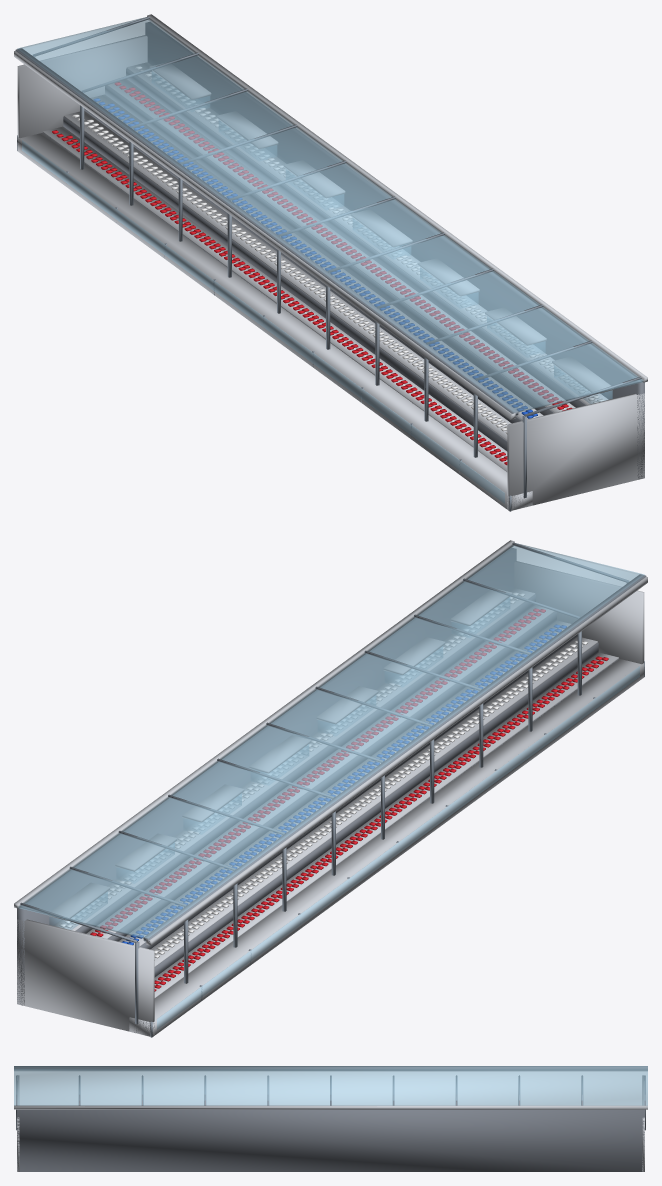
File: glass_terrace_grandstand.glb
The picture shows the model from 3 angles, top to bottom: view 1: azimuth 30°, elevation 25°; view 2: azimuth 150°, elevation 25°; view 3: azimuth 270°, elevation 25°; orthographic projection. The views are drawn at different scales.
Visible parts, largest first — view 1: Surface_concrete, Surface_roof_glass, Surface_concrete_dark, Surface_steel, Surface_seat_a, Surface_seat_b, Surface_glass, Surface_seat_c; view 2: Surface_concrete, Surface_roof_glass, Surface_concrete_dark, Surface_steel, Surface_seat_a, Surface_seat_b, Surface_glass, Surface_seat_c; view 3: Surface_concrete_dark, Surface_roof_glass, Surface_concrete, Surface_steel.
Boxes of the visible parts, x1,y1,x2,y2 form: Surface_concrete: [14, 14, 647, 510]; Surface_roof_glass: [17, 17, 643, 412]; Surface_concrete_dark: [43, 22, 644, 478]; Surface_steel: [15, 16, 641, 511]; Surface_seat_a: [52, 82, 572, 465]; Surface_seat_b: [72, 66, 603, 434]; Surface_glass: [22, 71, 612, 503]; Surface_seat_c: [94, 98, 537, 418]; Surface_concrete: [14, 540, 647, 1036]; Surface_roof_glass: [17, 543, 644, 938]; Surface_concrete_dark: [17, 548, 618, 1005]; Surface_steel: [20, 542, 646, 1037]; Surface_seat_a: [90, 608, 608, 991]; Surface_seat_b: [59, 592, 587, 960]; Surface_glass: [49, 597, 639, 1029]; Surface_seat_c: [121, 624, 566, 944]; Surface_concrete_dark: [17, 1109, 644, 1171]; Surface_roof_glass: [14, 1066, 647, 1105]; Surface_concrete: [14, 1070, 647, 1171]; Surface_steel: [14, 1066, 647, 1130].
Bounding box in the file's own units: 35.55 × 25.22 × 222.
